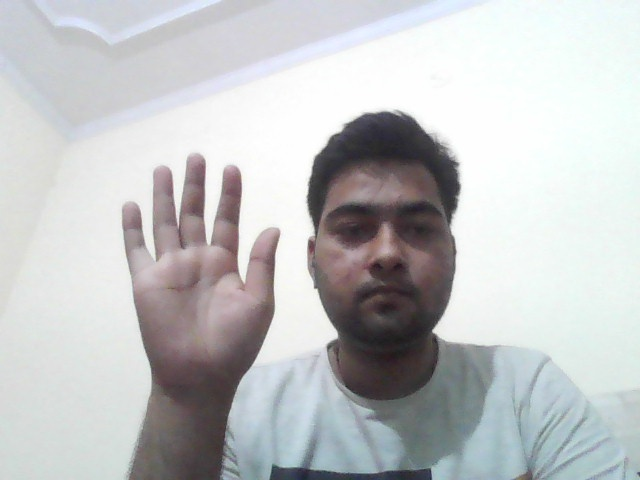Hello: (116, 147, 288, 387)
